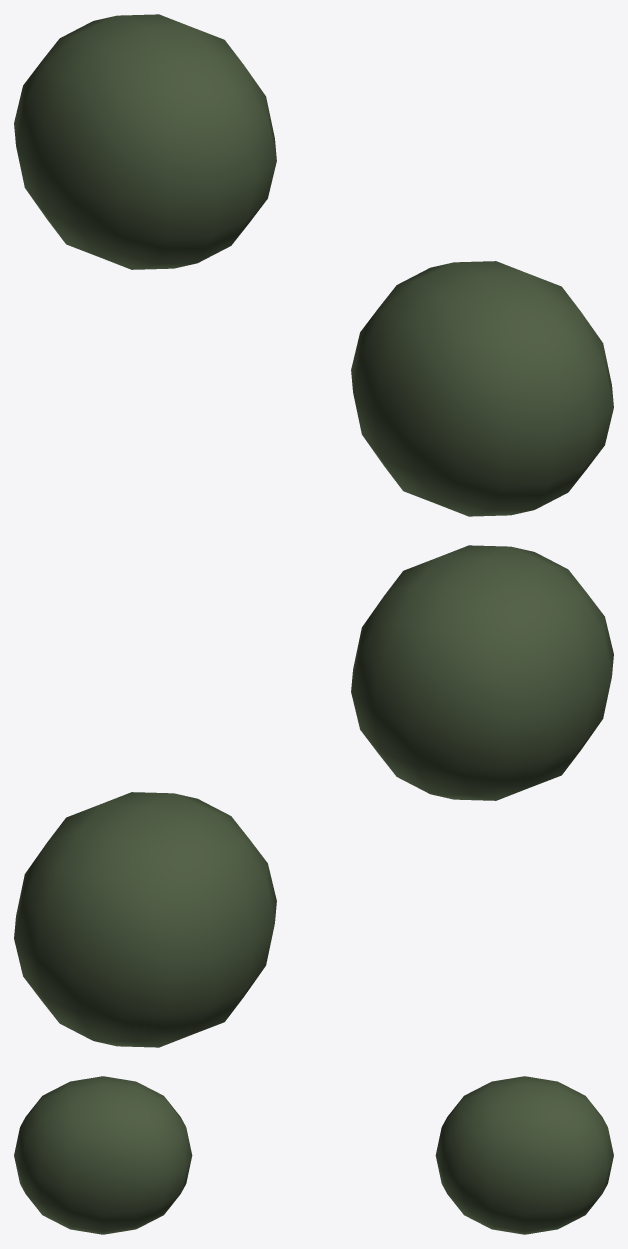
File: microscopic-bacteria-paired-bacterium_v1.glb
3 renders of one model, top to bottom at view 1: azimuth 30°, elevation 25°; view 2: azimuth 150°, elevation 25°; view 3: azimuth 270°, elevation 25°, orthographic. The views are drawn at different scales.
Parts seen in each view (by area): view 1: Paired Bacterium_v1; view 2: Paired Bacterium_v1; view 3: Paired Bacterium_v1.
Part boxes in pixels (x1,y1,x2,y2): Paired Bacterium_v1: [14, 14, 613, 516]; Paired Bacterium_v1: [14, 545, 613, 1047]; Paired Bacterium_v1: [14, 1076, 613, 1234].
Size of the model in its own units: 0.0521 by 0.0521 by 0.2.
